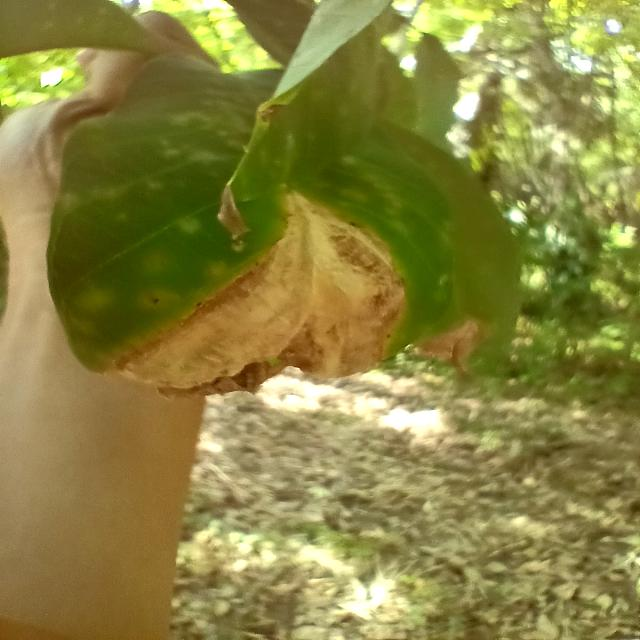Leaf-Blight: (107, 188, 412, 400), (416, 316, 480, 370), (216, 188, 251, 244)
